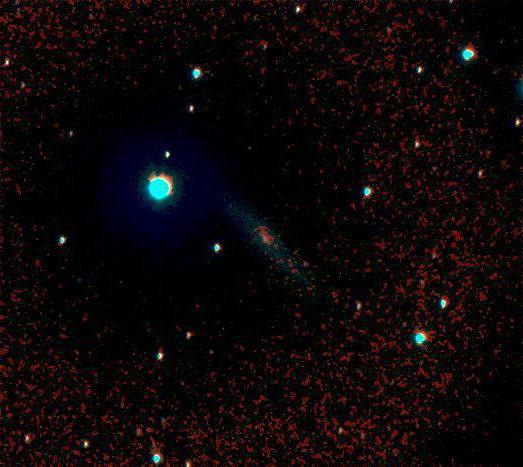star: (424, 407, 454, 437)
